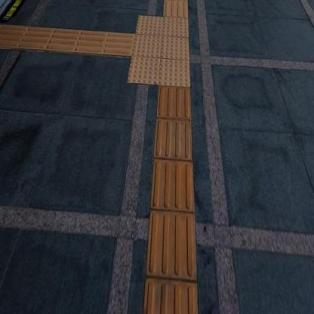Podoctatil: (144, 88, 199, 314), (123, 2, 202, 104), (0, 24, 130, 58), (164, 0, 187, 17)
